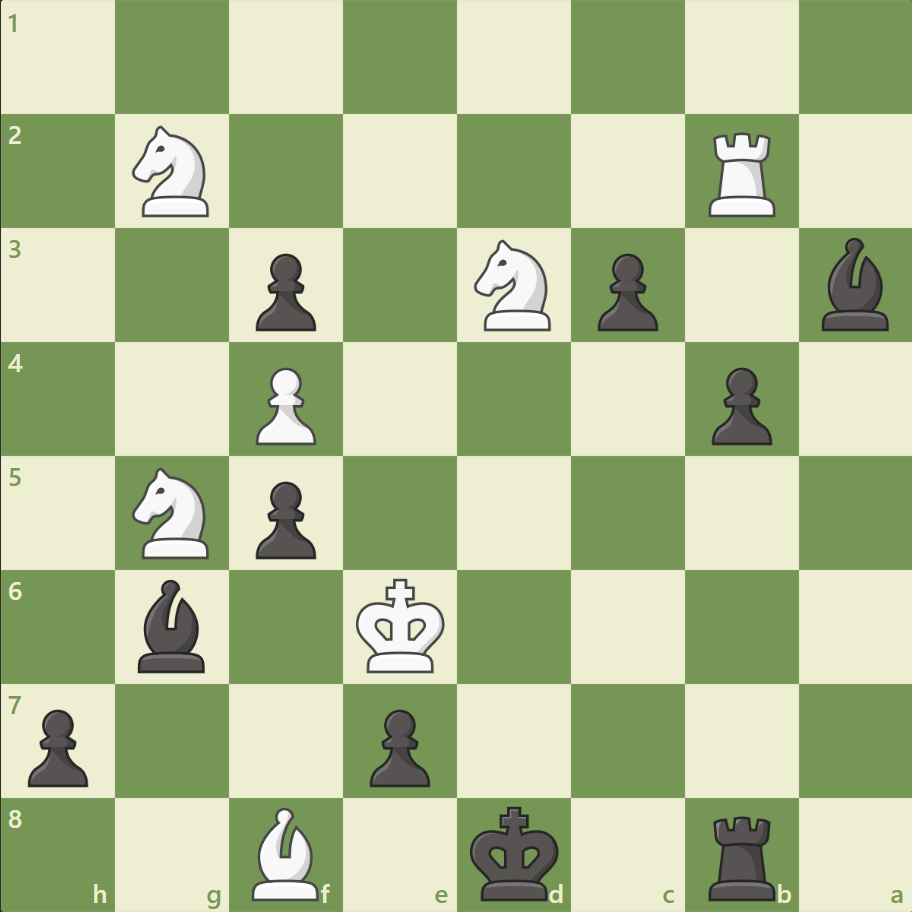B: (244, 801, 328, 904)
K: (351, 571, 451, 679)
N: (124, 461, 222, 564), (124, 121, 222, 223), (465, 234, 562, 337)
P: (247, 359, 322, 450)
R: (700, 125, 783, 222)
b: (812, 233, 896, 336), (131, 574, 215, 676)
k: (465, 798, 565, 906)
p: (20, 700, 95, 791), (247, 473, 322, 564), (701, 359, 776, 450), (247, 246, 322, 337), (361, 700, 435, 791), (588, 246, 662, 337)
r: (700, 806, 783, 904)
